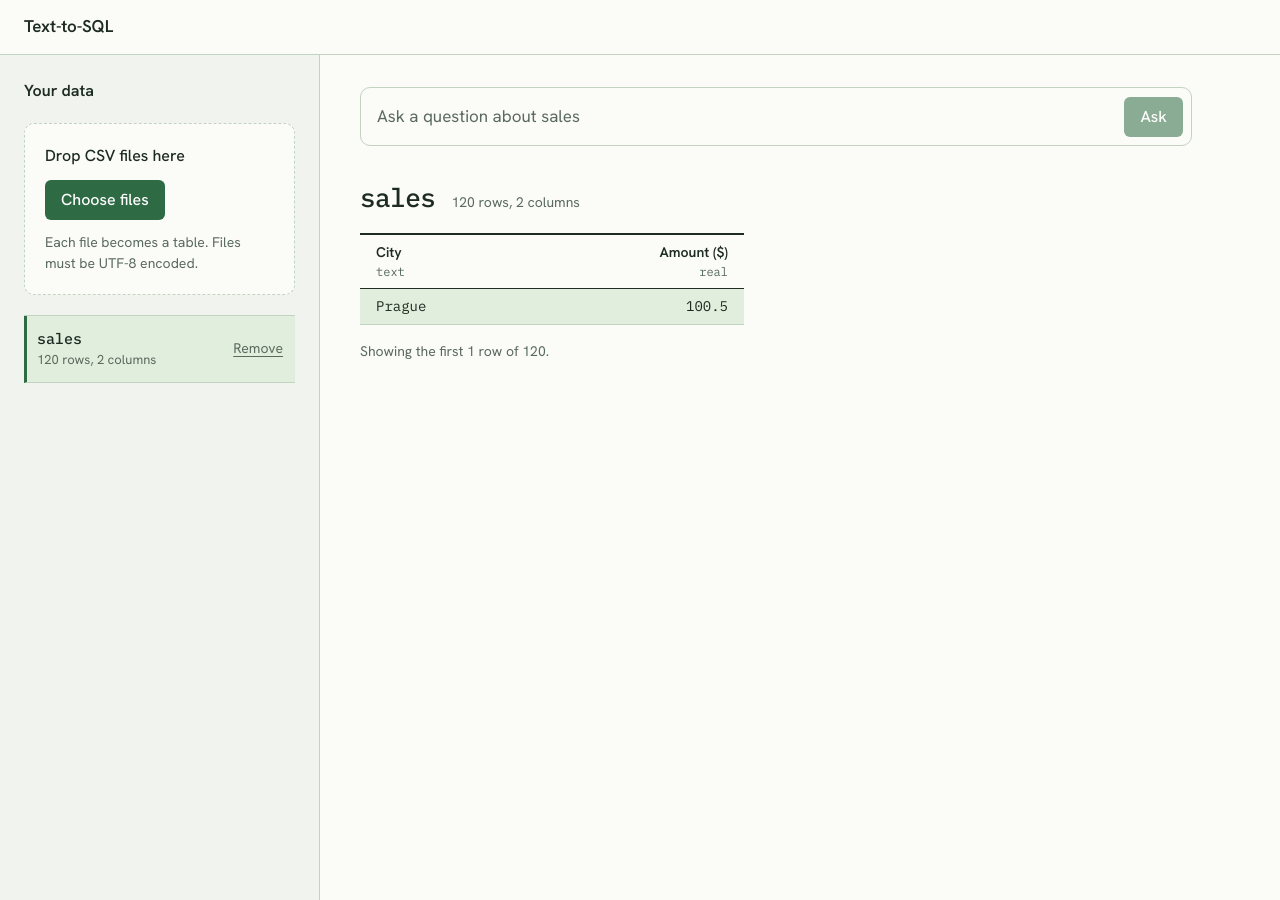
it: asking questions › says when the result was cut off
Check: the heading "sales" is shown, box x1=360 y1=178 x2=435 y2=217
In the text box labelled "question": (745, 116) x1=377 y1=96 x2=1112 y2=137, type "Everything"
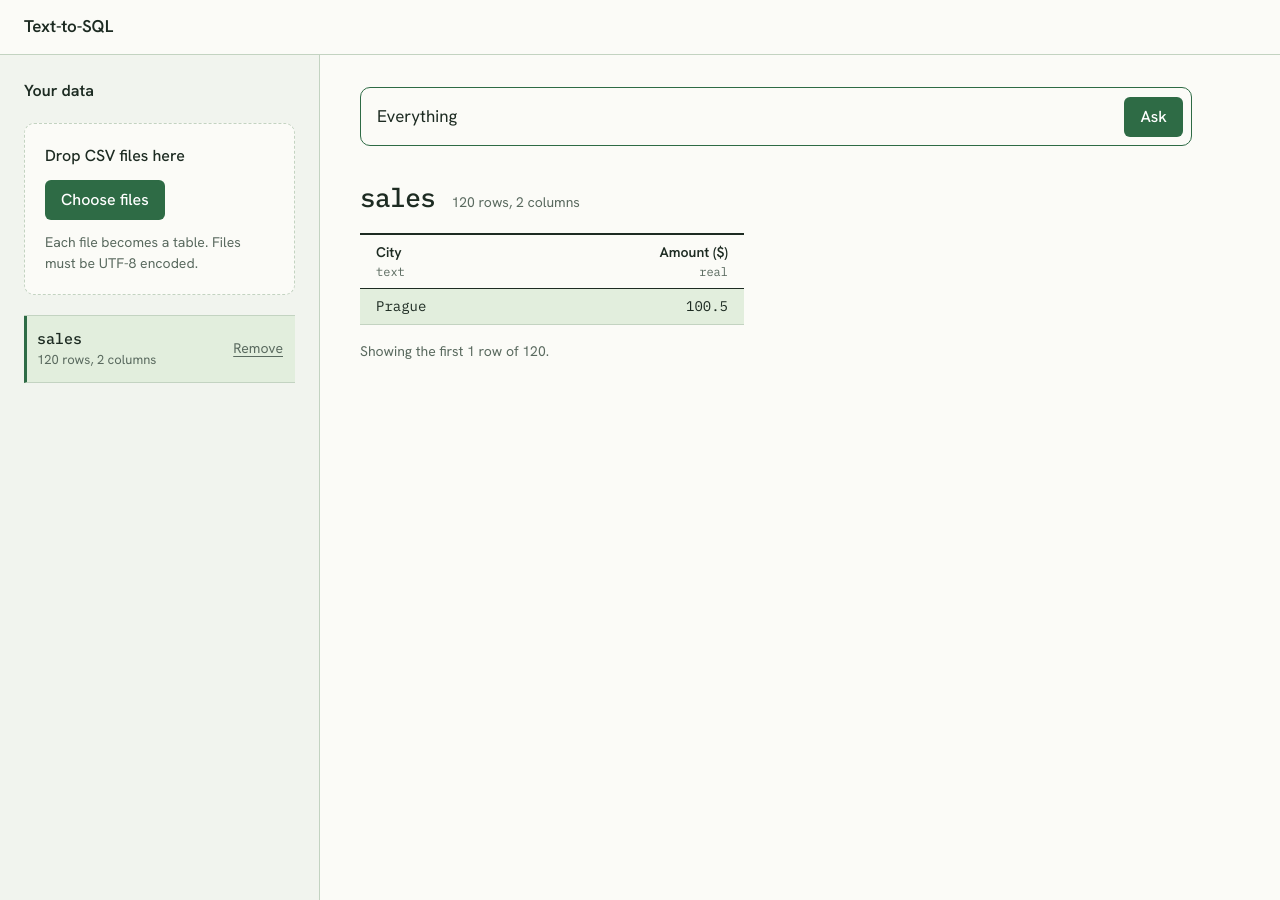
Click the button "Ask": (1154, 117) x1=1124 y1=97 x2=1183 y2=137
(page scrolled)
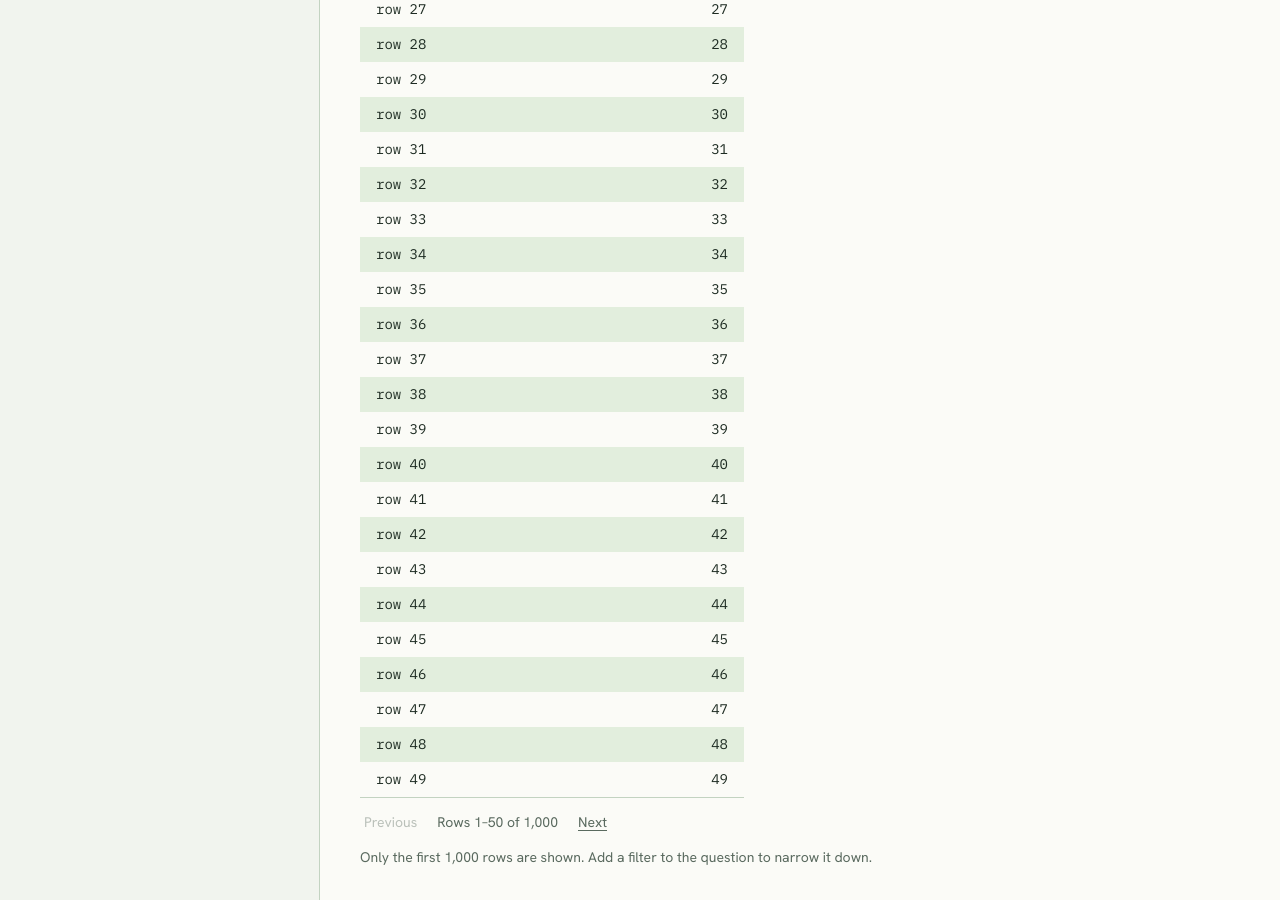
Check: the text "Only the first 1,000 rows are shown" is shown, box x1=360 y1=848 x2=872 y2=866
